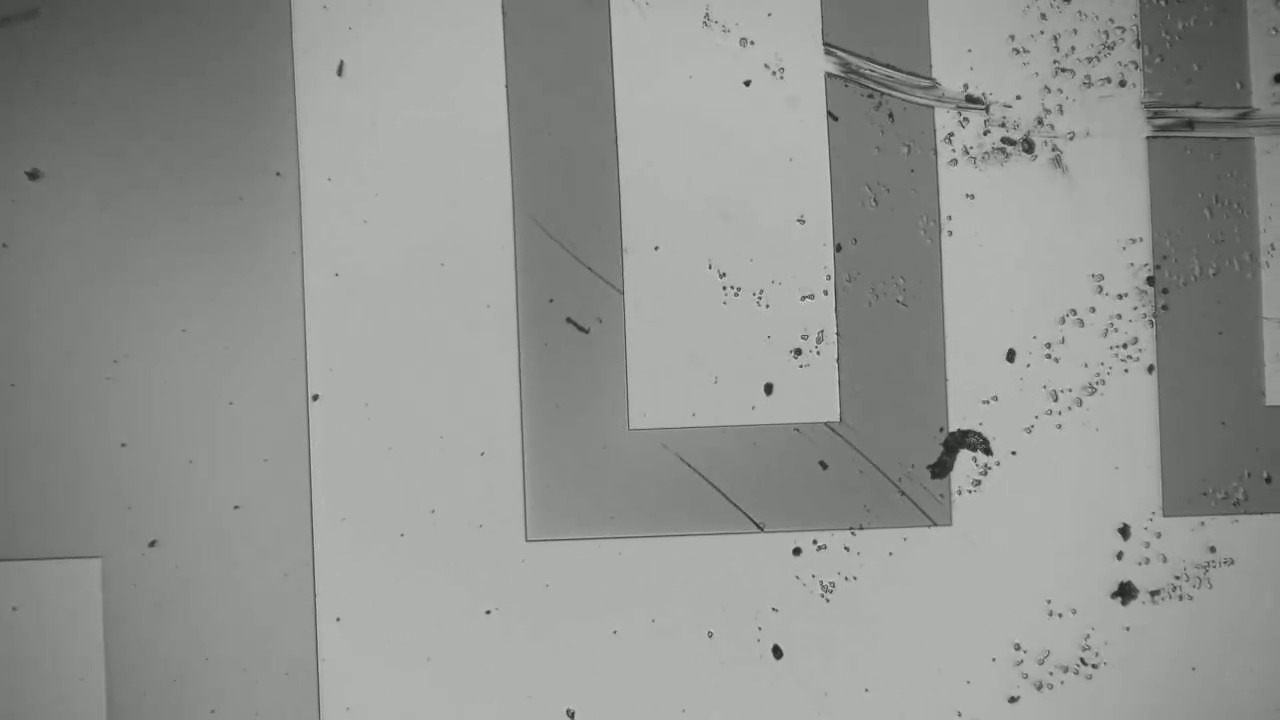Short_circuit: (792, 17, 955, 124), (1127, 90, 1274, 158)
scratch: (667, 449, 770, 525), (835, 436, 928, 517), (534, 223, 618, 301)
